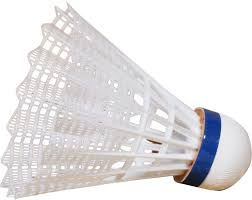shuttle: (4, 2, 245, 200)
